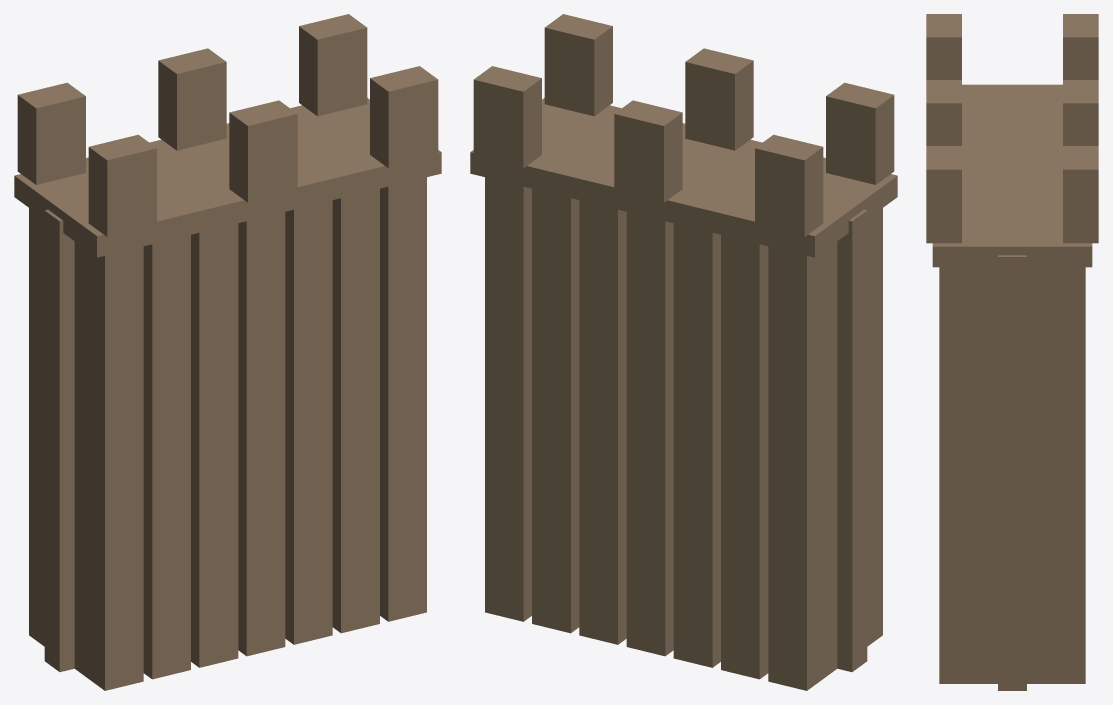
The model's file is garrison_gate.glb.
3 views of the same model, side by side, from view 1: azimuth 30°, elevation 25°; view 2: azimuth 150°, elevation 25°; view 3: azimuth 270°, elevation 25° (orthographic). The views are drawn at different scales.
Visible parts, largest first — view 1: garrison_gate; view 2: garrison_gate; view 3: garrison_gate.
Part boxes in pixels (x1,y1,x2,y2): garrison_gate: (14, 14, 441, 690); garrison_gate: (470, 14, 897, 690); garrison_gate: (926, 14, 1098, 690).
Size of the model in its own units: 2.4 by 3.5 by 1.06.
